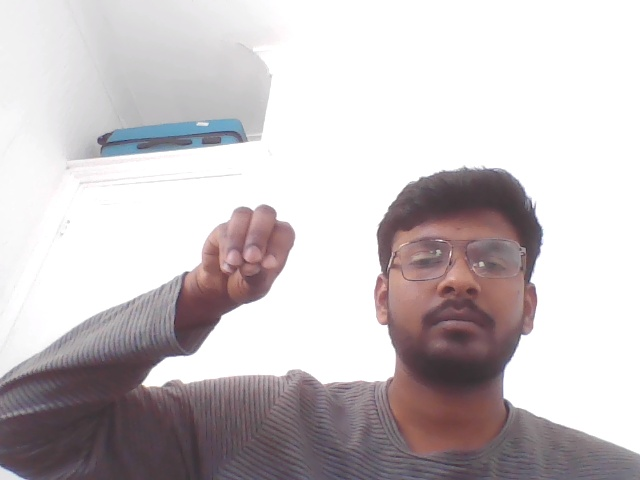Yes: (142, 173, 313, 384)
